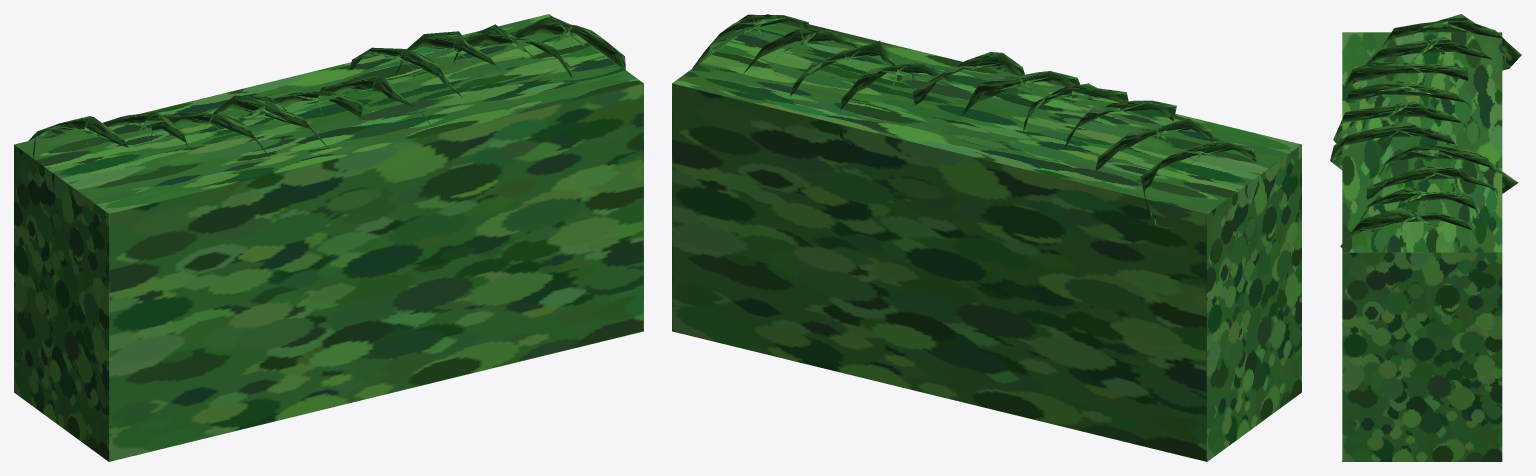
File: nat_boxwood_hedge.glb
3 views of the same model, side by side, from view 1: azimuth 30°, elevation 25°; view 2: azimuth 150°, elevation 25°; view 3: azimuth 270°, elevation 25° (orthographic). The views are drawn at different scales.
Visible parts, largest first — view 1: foliage; view 2: foliage; view 3: foliage.
Part boxes in pixels (bbox=[...]): foliage: bbox=[14, 14, 643, 461]; foliage: bbox=[672, 14, 1301, 461]; foliage: bbox=[1330, 14, 1521, 461].
Size of the model in its own units: 2.91 by 1.41 by 1.03.
Materials: 1 (1 with a texture image).
